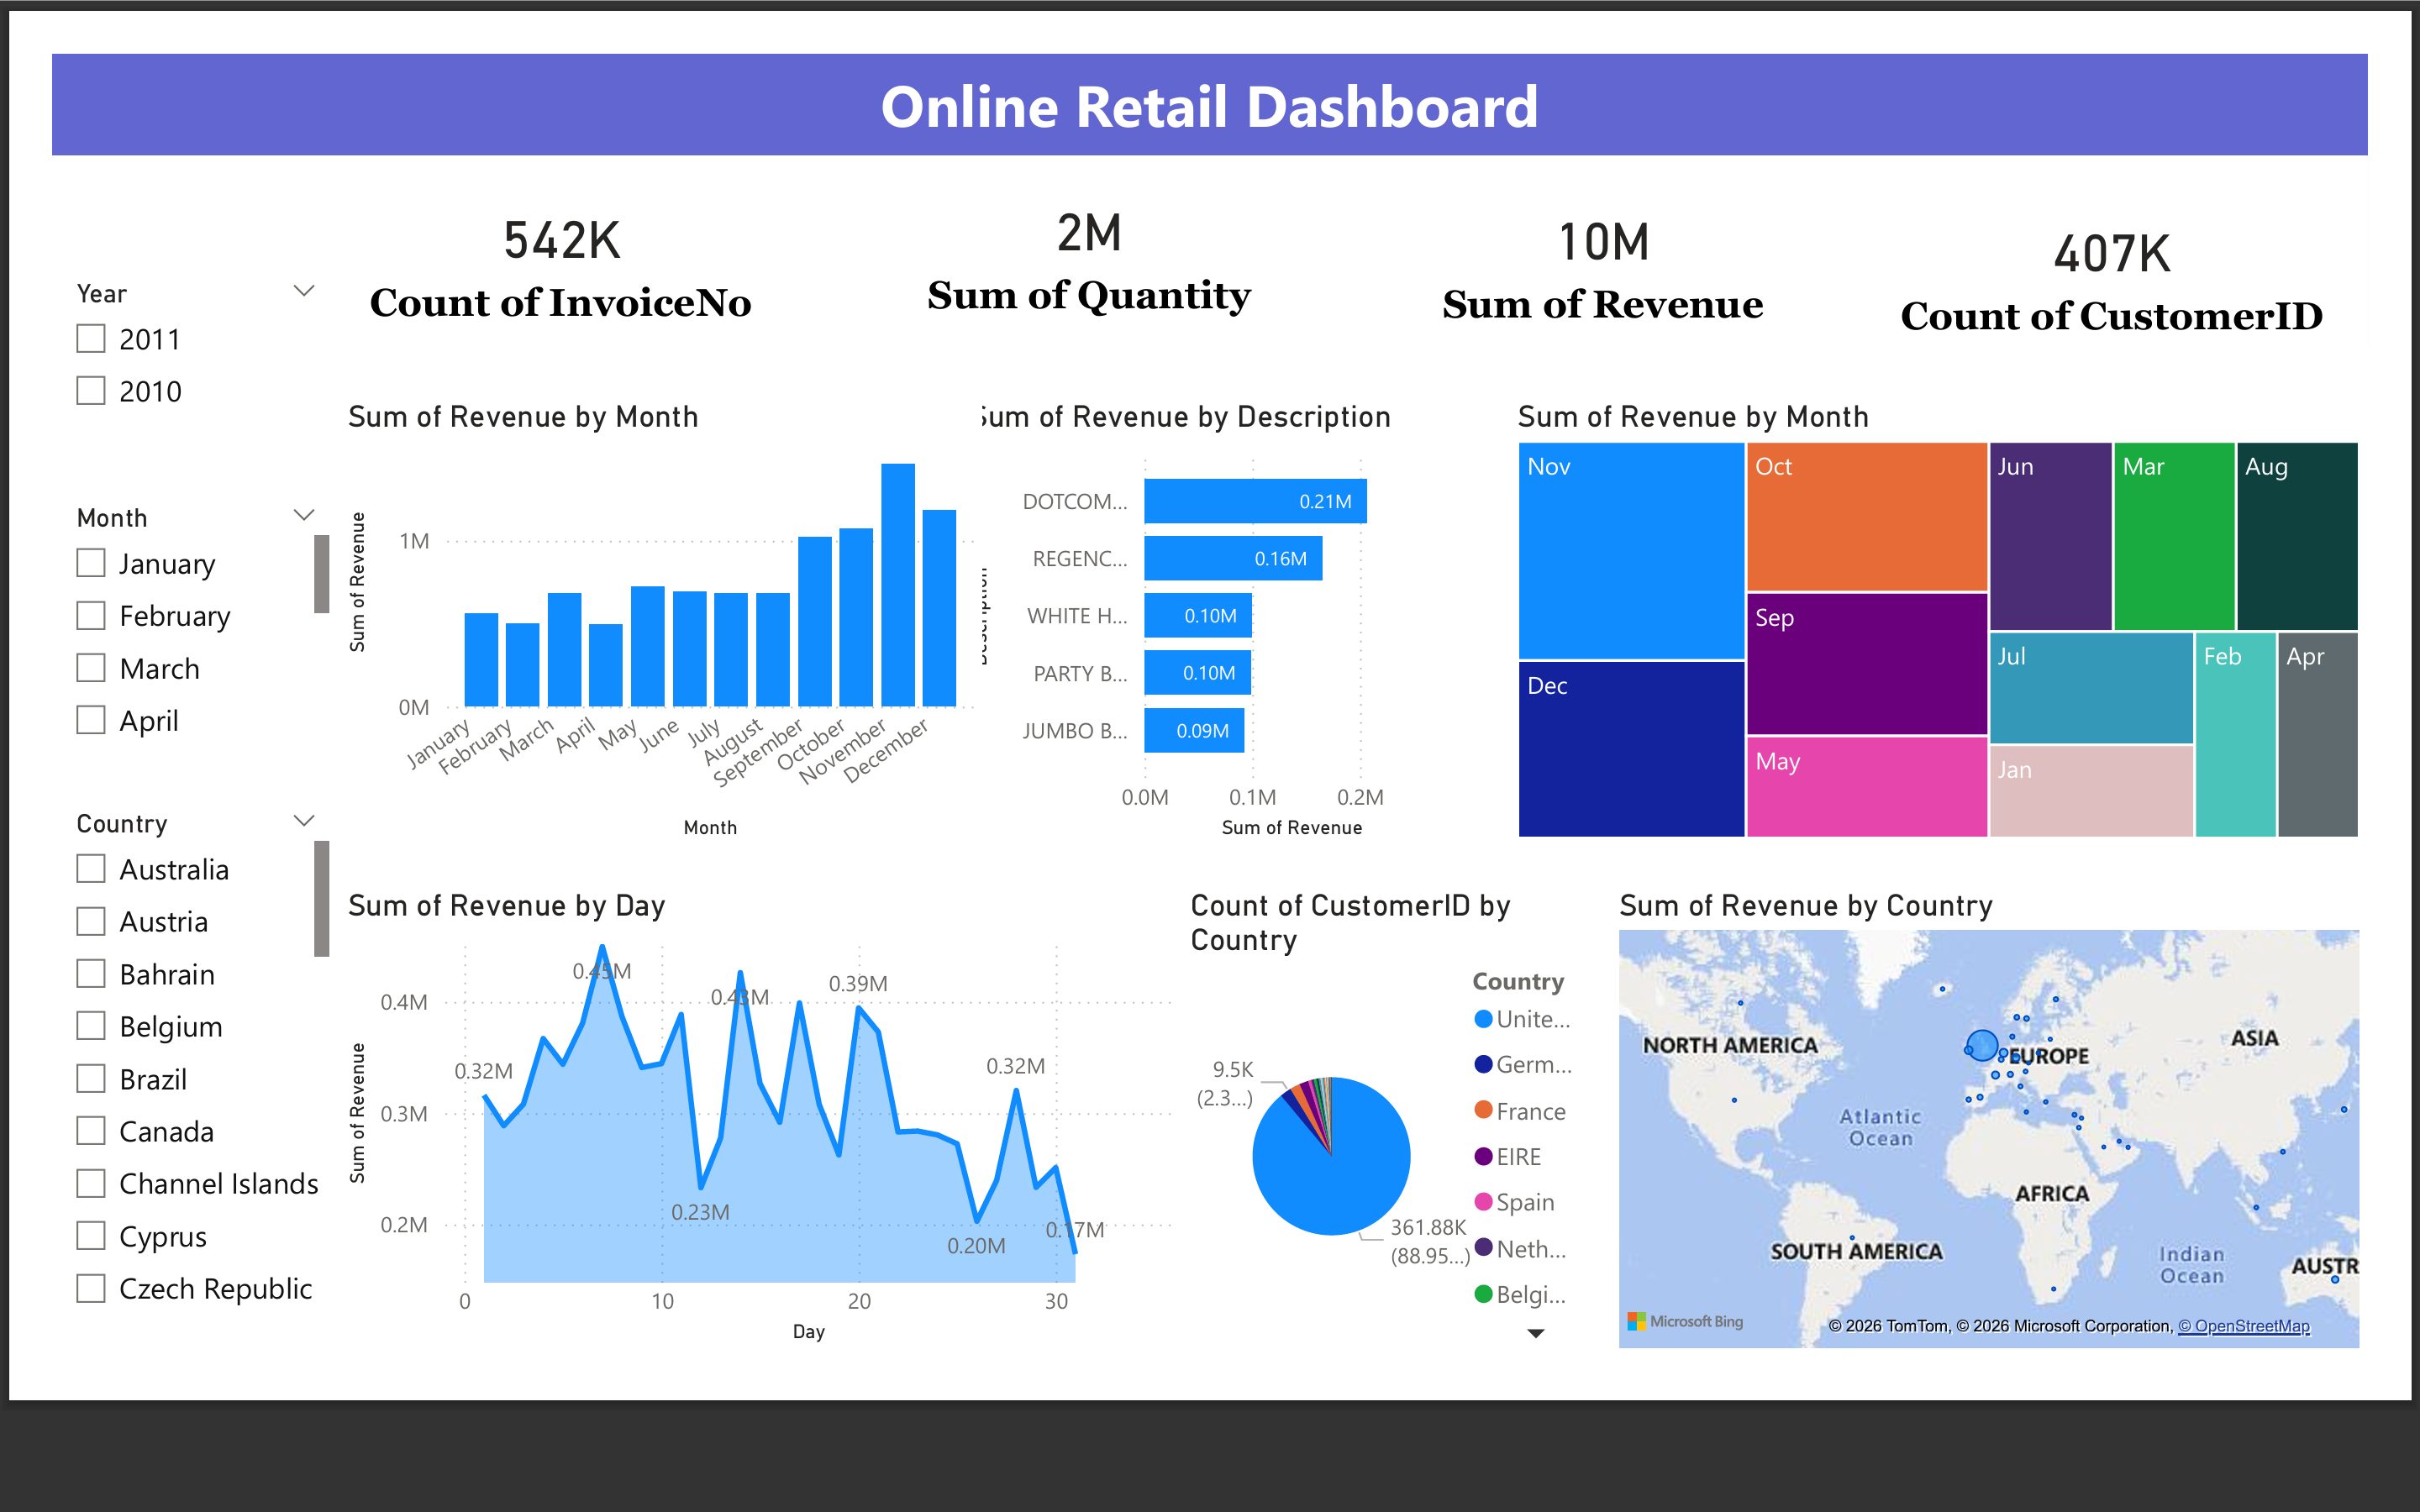

This screenshot's page, from the dashboard's own definition file:
{"tool":"powerbi","page":{"name":"Page 1","canvas":[1280,720],"ordinal":0},"visuals":[{"type":"textbox","box":[0,0,1280,56.4],"z":0},{"type":"card","fields":{"Values":["Sum(Online Retail.Revenue)"]},"box":[756.9,66.6,199.9,93],"z":1000},{"type":"areaChart","fields":{"Category":["Online Retail.InvoiceDate.Variation.Date Hierarchy.Day"],"Y":["Sum(Online Retail.Revenue)"]},"box":[158.4,460.2,465.2,256.5],"z":2000},{"type":"clusteredBarChart","fields":{"Category":["Online Retail.Description"],"Y":["Sum(Online Retail.Revenue)"]},"box":[501.7,189.9,284.2,247.7],"z":3000},{"type":"map","fields":{"Category":["Online Retail.Country"],"Size":["Sum(Online Retail.Revenue)"]},"box":[861.3,460.2,418.7,260.3],"z":4000},{"type":"pieChart","fields":{"Category":["Online Retail.Country"],"Y":["CountNonNull(Online Retail.CustomerID)"]},"box":[623.7,460.2,233.9,260.3],"z":5000},{"type":"slicer","fields":{"Values":["Online Retail.Country"]},"box":[0,412.4,158.4,295.5],"z":6000},{"type":"card","fields":{"Values":["CountNonNull(Online Retail.CustomerID)"]},"box":[1016,71.7,245.2,96.8],"z":7000},{"type":"card","fields":{"Values":["CountNonNull(Online Retail.InvoiceNo)"]},"box":[158.4,70.4,245.2,84.2],"z":8000},{"type":"card","fields":{"Values":["Sum(Online Retail.Quantity)"]},"box":[472.8,61.6,199.9,93],"z":9000},{"type":"columnChart","fields":{"Category":["Online Retail.InvoiceDate.Variation.Date Hierarchy.Month"],"Y":["Sum(Online Retail.Revenue)"]},"box":[158.4,189.9,355.8,247.7],"z":10000},{"type":"slicer","fields":{"Values":["Online Retail.InvoiceDate.Variation.Date Hierarchy.Month"]},"box":[0,242.7,158.4,150.9],"z":11000},{"type":"slicer","fields":{"Values":["Online Retail.InvoiceDate.Variation.Date Hierarchy.Year"]},"box":[0,119.4,158.4,104.4],"z":12000},{"type":"treemap","fields":{"Values":["Sum(Online Retail.Revenue)"],"Group":["Online Retail.Month"]},"box":[804.7,189.9,475.3,247.7],"z":13000}]}

Visuals, with their boxes on the page's 1280x720 design canvas (x1, y1, x2, y2). These are canvas units, not pixel positions in the 2420x1512 screenshot, which may show the page scaled, cropped or inside an application window:
textbox: x1=0, y1=0, x2=1280, y2=56
card - Sum(Online Retail.Revenue): x1=757, y1=67, x2=957, y2=160
areaChart - Online Retail.InvoiceDate.Variation.Date Hierarchy.Day x Sum(Online Retail.Revenue): x1=158, y1=460, x2=624, y2=717
clusteredBarChart - Online Retail.Description x Sum(Online Retail.Revenue): x1=502, y1=190, x2=786, y2=438
map - Online Retail.Country x Sum(Online Retail.Revenue): x1=861, y1=460, x2=1280, y2=720
pieChart - Online Retail.Country x CountNonNull(Online Retail.CustomerID): x1=624, y1=460, x2=858, y2=720
slicer - Online Retail.Country: x1=0, y1=412, x2=158, y2=708
card - CountNonNull(Online Retail.CustomerID): x1=1016, y1=72, x2=1261, y2=168
card - CountNonNull(Online Retail.InvoiceNo): x1=158, y1=70, x2=404, y2=155
card - Sum(Online Retail.Quantity): x1=473, y1=62, x2=673, y2=155
columnChart - Online Retail.InvoiceDate.Variation.Date Hierarchy.Month x Sum(Online Retail.Revenue): x1=158, y1=190, x2=514, y2=438
slicer - Online Retail.InvoiceDate.Variation.Date Hierarchy.Month: x1=0, y1=243, x2=158, y2=394
slicer - Online Retail.InvoiceDate.Variation.Date Hierarchy.Year: x1=0, y1=119, x2=158, y2=224
treemap - Sum(Online Retail.Revenue) x Online Retail.Month: x1=805, y1=190, x2=1280, y2=438
